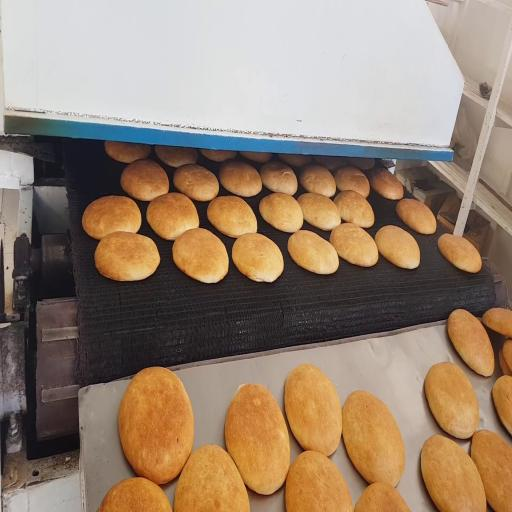bread: (118, 367, 194, 484), (225, 384, 290, 494), (343, 391, 405, 486), (285, 364, 342, 456), (174, 445, 249, 511), (421, 435, 486, 511), (425, 362, 479, 438), (286, 451, 352, 511), (471, 430, 511, 511), (95, 232, 160, 281), (448, 310, 494, 376), (173, 228, 228, 283), (82, 196, 141, 239), (232, 233, 283, 282), (147, 193, 199, 240), (98, 478, 172, 511), (288, 230, 338, 274), (330, 223, 378, 266), (207, 196, 257, 237), (375, 225, 420, 269), (121, 160, 169, 201), (259, 193, 303, 232), (438, 234, 481, 273), (173, 164, 218, 201), (298, 192, 341, 230), (354, 483, 410, 511), (219, 161, 262, 197), (334, 190, 374, 228), (396, 199, 436, 234), (260, 162, 297, 195), (299, 164, 336, 197), (492, 375, 511, 434), (334, 166, 369, 198), (370, 169, 403, 200), (105, 141, 150, 163), (155, 146, 198, 168), (483, 308, 511, 338), (200, 149, 236, 162), (314, 156, 346, 170), (279, 154, 311, 167), (240, 152, 271, 163), (499, 349, 511, 376), (348, 158, 374, 170), (502, 339, 511, 369)
